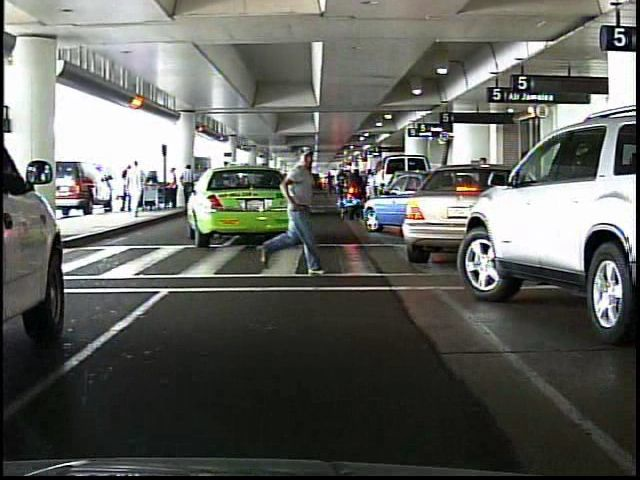person: (264, 143, 326, 278)
